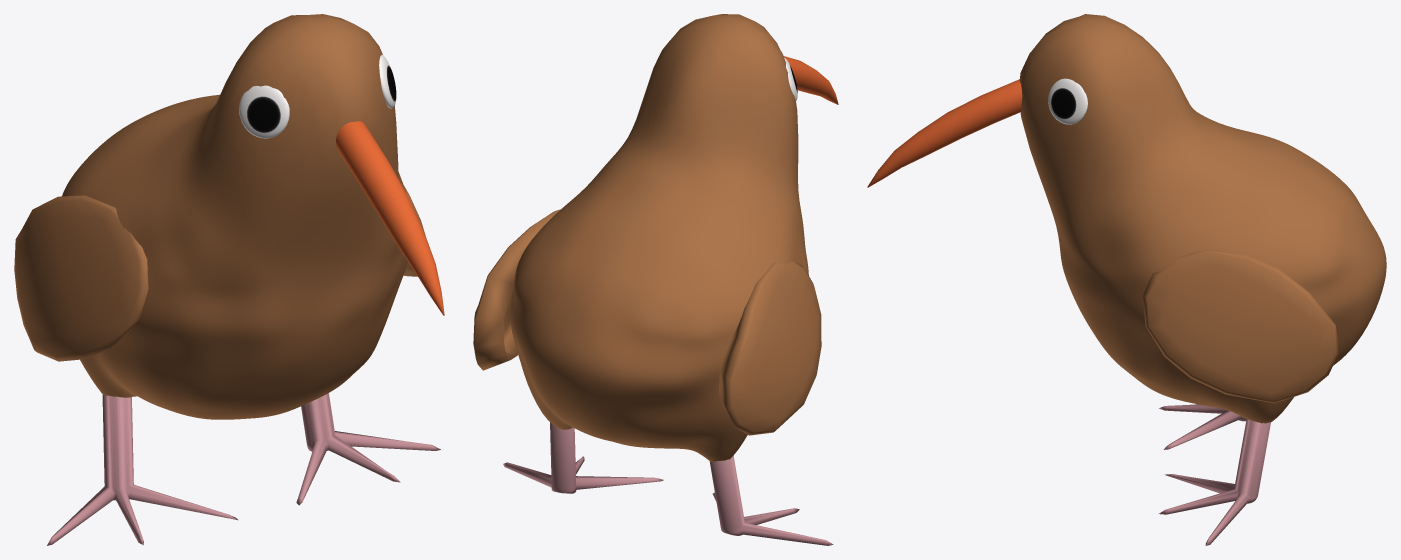
Rendered from kiwi.fbx.
The picture shows the model from 3 angles, left to right: view 1: azimuth 30°, elevation 25°; view 2: azimuth 150°, elevation 25°; view 3: azimuth 270°, elevation 25°; orthographic projection. The views are drawn at different scales.
Parts seen in each view (by area): view 1: Roundcube, Roundcube.001, Cylinder.001, Cylinder, Sphere; view 2: Roundcube, Roundcube.001, Cylinder.001, Cylinder; view 3: Roundcube, Roundcube.001, Cylinder.001, Cylinder, Sphere.
Boxes of the visible parts, x1,y1,x2,y2 form: Roundcube: [62, 14, 407, 419]; Roundcube.001: [14, 186, 425, 361]; Cylinder.001: [47, 393, 440, 545]; Cylinder: [336, 121, 444, 315]; Sphere: [239, 54, 396, 138]; Roundcube: [510, 14, 808, 461]; Roundcube.001: [473, 209, 821, 435]; Cylinder.001: [503, 422, 833, 545]; Cylinder: [784, 56, 838, 104]; Roundcube: [1019, 14, 1386, 423]; Roundcube.001: [1142, 249, 1338, 403]; Cylinder.001: [1159, 404, 1270, 545]; Cylinder: [867, 79, 1022, 187]; Sphere: [1048, 78, 1087, 124].
Bounding box in the file's own units: 209 × 268 × 283.
Materials: 5 (5 with a texture image).
